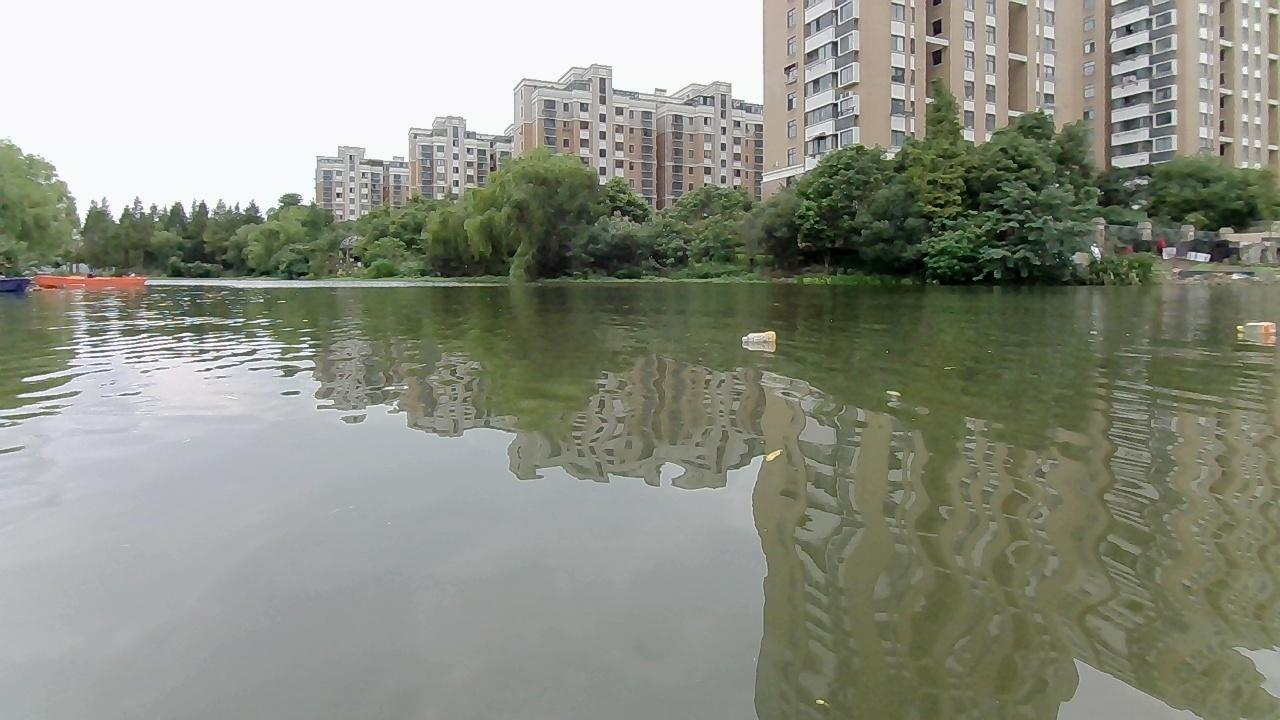bottle: (1235, 317, 1276, 336), (739, 330, 777, 344)
